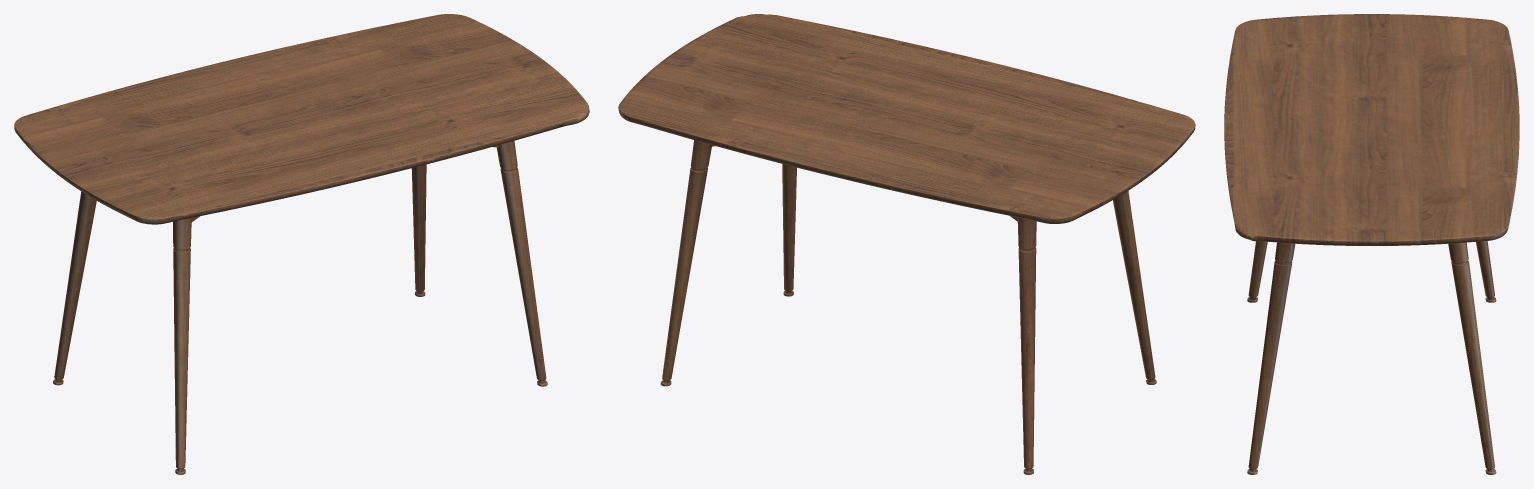
The model's file is raw_model.obj.
3 views of the same model, side by side, from view 1: azimuth 30°, elevation 25°; view 2: azimuth 150°, elevation 25°; view 3: azimuth 270°, elevation 25° (orthographic). The views are drawn at different scales.
Parts seen in each view (by area): view 1: solid; view 2: solid; view 3: solid.
Part boxes in pixels (left/top/right/bottom): solid: left=14, top=14, right=589, bottom=474; solid: left=618, top=14, right=1195, bottom=474; solid: left=1224, top=14, right=1519, bottom=474.
Bounding box in the file's own units: 1.37 × 0.734 × 0.7547.
1 material, 1 textured.
